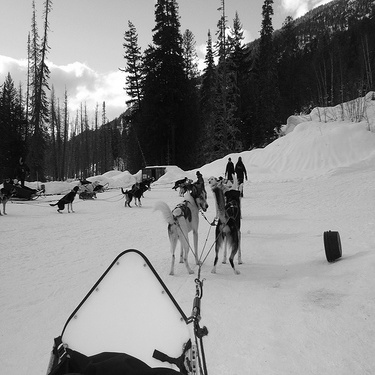dog: (154, 189, 209, 280), (210, 185, 245, 277), (48, 178, 81, 217), (205, 171, 240, 196), (184, 169, 211, 199), (118, 185, 145, 208), (129, 173, 151, 197), (70, 180, 101, 195), (174, 179, 193, 194), (170, 175, 188, 189)
